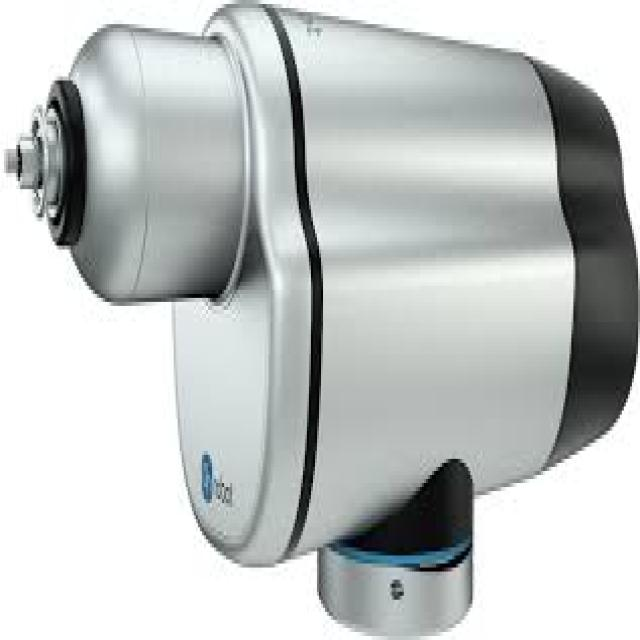driller: (4, 4, 628, 640)
